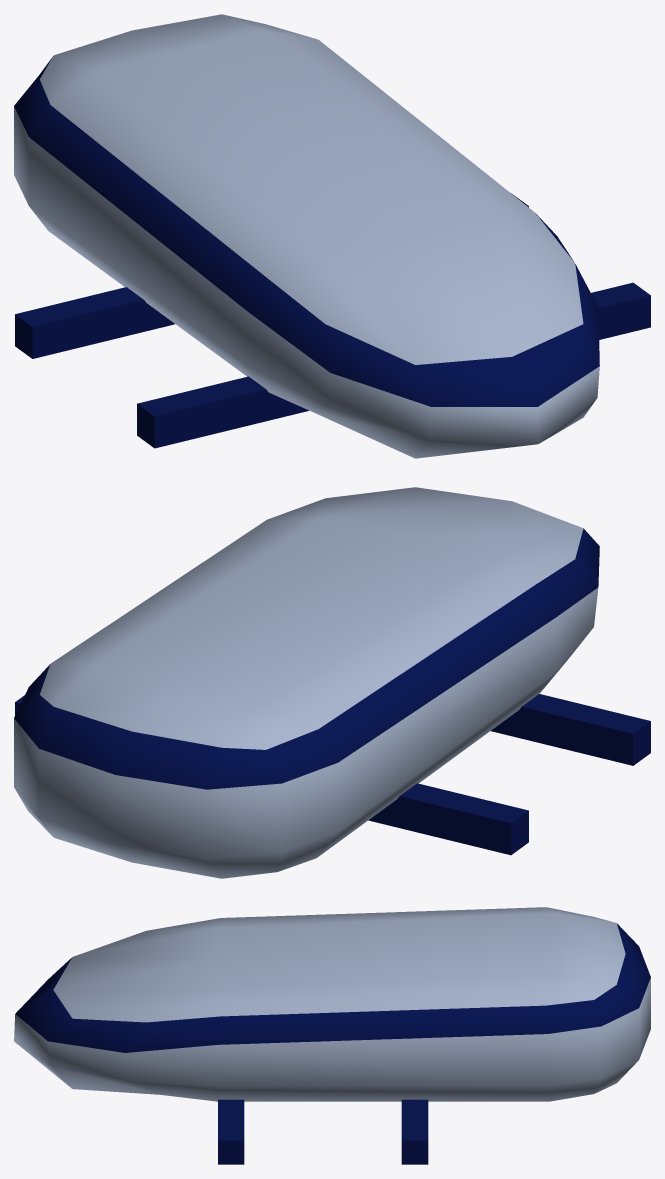
3 renders of one model, top to bottom at view 1: azimuth 30°, elevation 25°; view 2: azimuth 150°, elevation 25°; view 3: azimuth 270°, elevation 25°, orthographic. The views are drawn at different scales.
Visible parts, largest first — view 1: Box; view 2: Box; view 3: Box.
Part boxes in pixels (x1,y1,x2,y2): Box: (14, 14, 650, 458); Box: (14, 487, 650, 878); Box: (14, 907, 650, 1164).
Size of the model in its own units: 1.74 by 0.5762 by 2.57.
